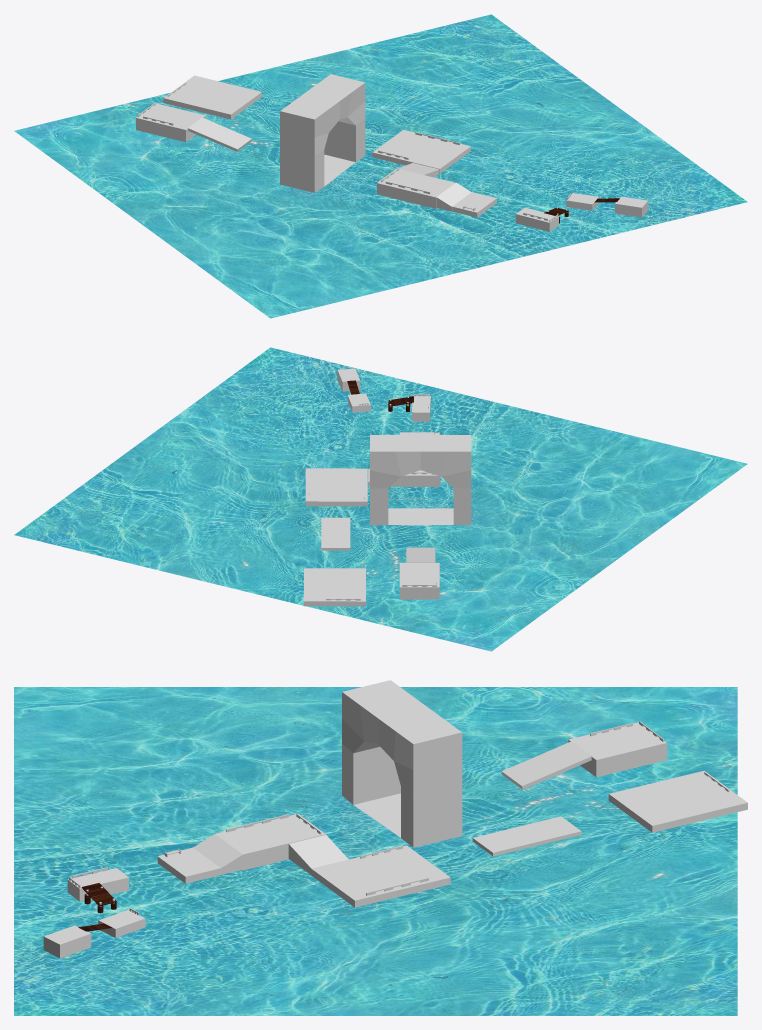
Rendered from NivelNeonWhite.fbx.
3 views of the same model, one above another, from view 1: azimuth 30°, elevation 25°; view 2: azimuth 150°, elevation 25°; view 3: azimuth 270°, elevation 25° (orthographic). The views are drawn at different scales.
Parts seen in each view (by area): view 1: Plane, Cube.016, Cube.011, Cube.010, Cube.008, Cube.013, Cube.014, Cube.006, Cube.005, Cube, Cube.007; view 2: Plane, Cube.016, Cube.010, Cube.011, Cube.013, Cube.012, Cube.008; view 3: Plane, Cube.016, Cube.011, Cube.010, Cube.013, Cube.008, Cube.012, Cube.014, Cube.009, Cube.006, Cube, Cube.005 (+2 smaller).
Boxes of the visible parts, x1=… form: Plane: x1=14, y1=14, x2=747, y2=318; Cube.016: x1=280, y1=74, x2=365, y2=192; Cube.011: x1=163, y1=75, x2=261, y2=119; Cube.010: x1=372, y1=130, x2=470, y2=173; Cube.008: x1=377, y1=168, x2=455, y2=208; Cube.013: x1=136, y1=103, x2=205, y2=142; Cube.014: x1=188, y1=117, x2=251, y2=151; Cube.006: x1=452, y1=192, x2=496, y2=217; Cube.005: x1=515, y1=207, x2=558, y2=231; Cube: x1=615, y1=196, x2=648, y2=217; Cube.007: x1=436, y1=182, x2=471, y2=211; Plane: x1=14, y1=347, x2=747, y2=651; Cube.016: x1=370, y1=435, x2=471, y2=525; Cube.010: x1=305, y1=468, x2=367, y2=506; Cube.011: x1=303, y1=568, x2=365, y2=606; Cube.013: x1=399, y1=563, x2=439, y2=599; Cube.012: x1=321, y1=517, x2=350, y2=550; Cube.008: x1=400, y1=470, x2=440, y2=486; Plane: x1=14, y1=687, x2=737, y2=1015; Cube.016: x1=342, y1=680, x2=462, y2=847; Cube.011: x1=608, y1=770, x2=747, y2=832; Cube.010: x1=311, y1=845, x2=450, y2=907; Cube.013: x1=568, y1=722, x2=667, y2=777; Cube.008: x1=215, y1=814, x2=325, y2=870; Cube.012: x1=472, y1=816, x2=581, y2=856; Cube.014: x1=501, y1=741, x2=592, y2=789; Cube.009: x1=288, y1=835, x2=348, y2=874; Cube.006: x1=157, y1=847, x2=220, y2=883; Cube: x1=43, y1=925, x2=91, y2=958; Cube.005: x1=67, y1=868, x2=128, y2=901.
Size of the model in its own units: 62005 by 9404 by 58490.
